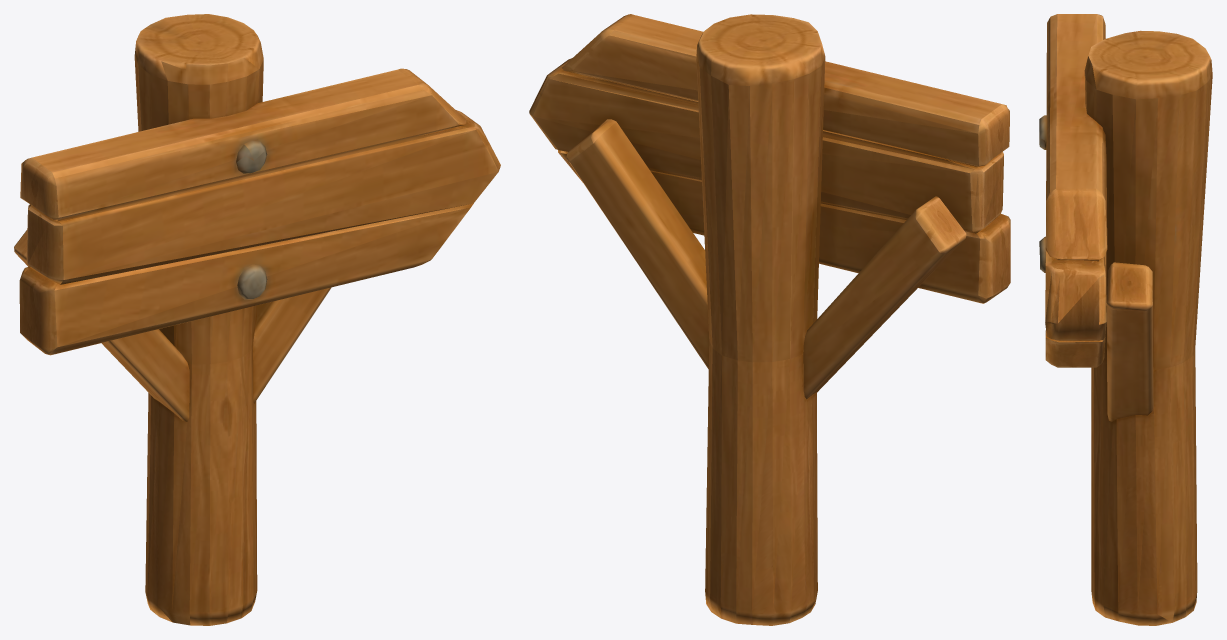
File: signpost.glb
The picture shows the model from 3 angles, left to right: view 1: azimuth 30°, elevation 25°; view 2: azimuth 150°, elevation 25°; view 3: azimuth 270°, elevation 25°; orthographic projection. The views are drawn at different scales.
Size of the model in its own units: 0.8555 by 1 by 0.2871.
Materials: 1 (1 with a texture image).
